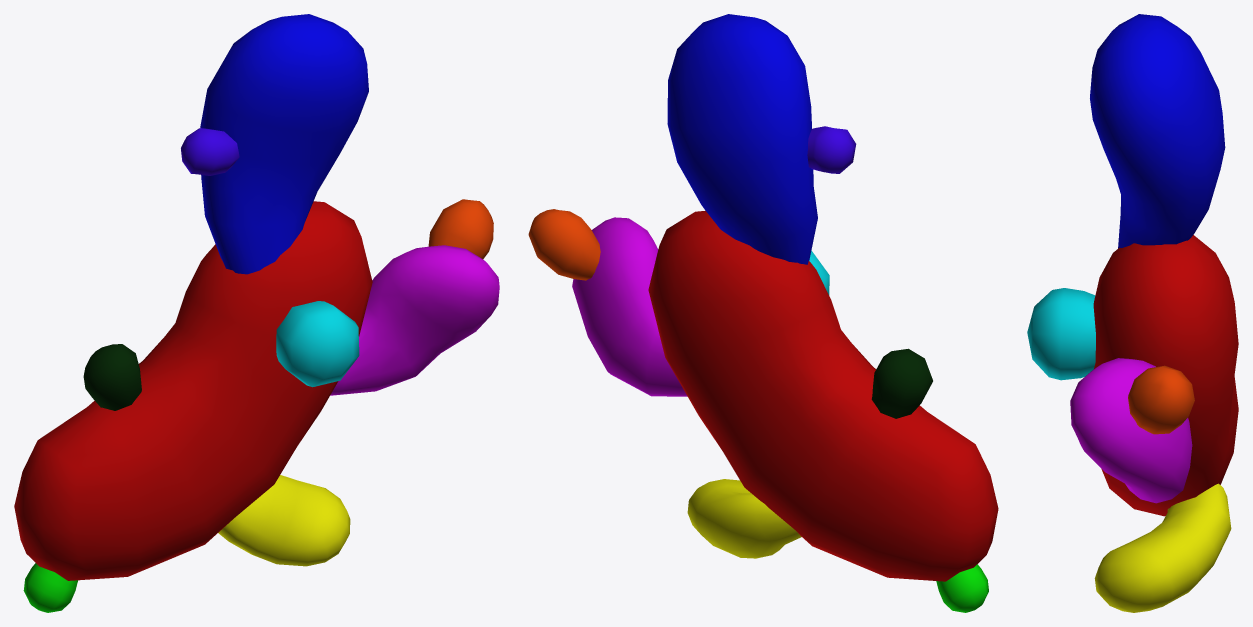
The model's file is Ginger.fbx.
3 views of the same model, side by side, from view 1: azimuth 30°, elevation 25°; view 2: azimuth 150°, elevation 25°; view 3: azimuth 270°, elevation 25° (orthographic). The views are drawn at different scales.
Parts seen in each view (by area): view 1: Ginger; view 2: Ginger; view 3: Ginger.
Part boxes in pixels (x1=…): Ginger: x1=14, y1=14, x2=499, y2=612; Ginger: x1=528, y1=14, x2=998, y2=612; Ginger: x1=1027, y1=14, x2=1238, y2=612.
Bounding box in the file's own units: 35.05 × 12.79 × 38.61.
